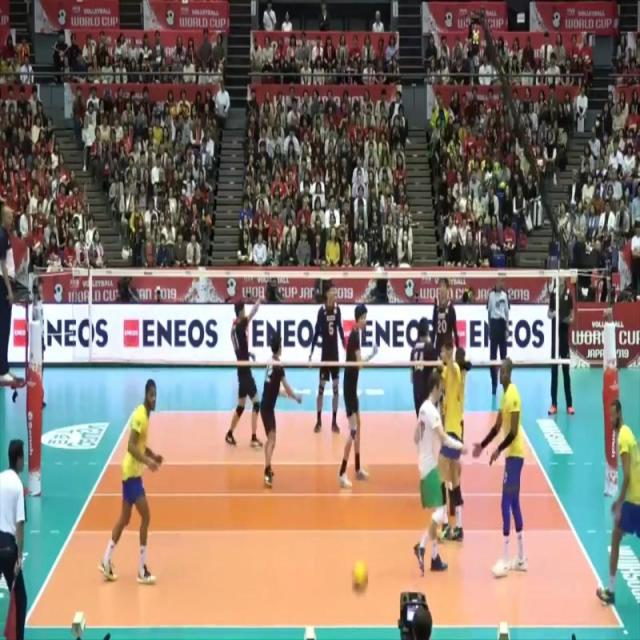volleyball: (349, 558, 370, 597)
